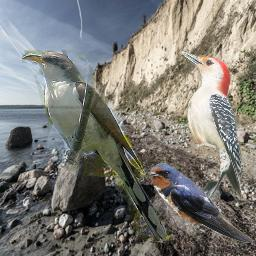Cuckoo: (22, 50, 169, 243)
Swallow: (148, 163, 253, 243)
Woodpecker: (176, 49, 242, 214)
